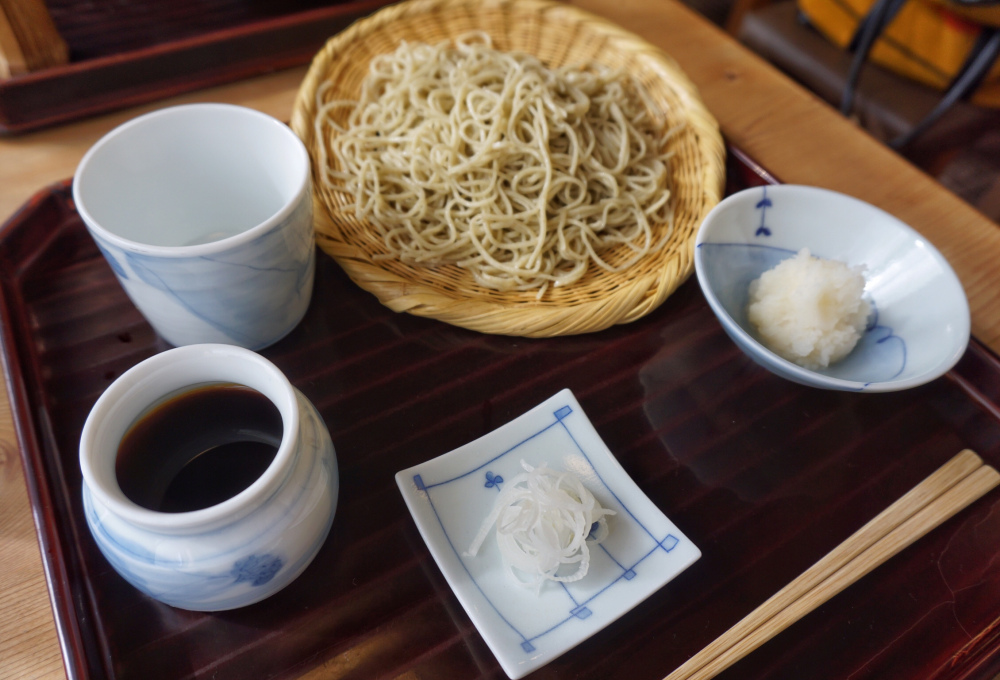Soba: (313, 34, 673, 292)
